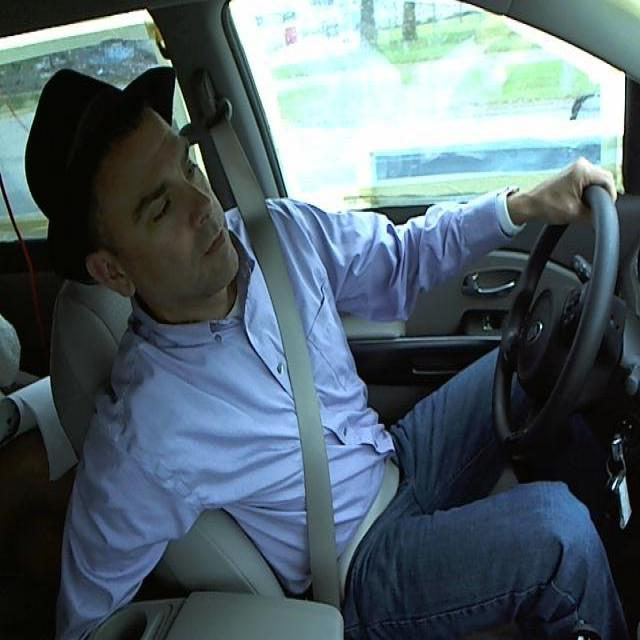seatbelt: (254, 246, 352, 594)
